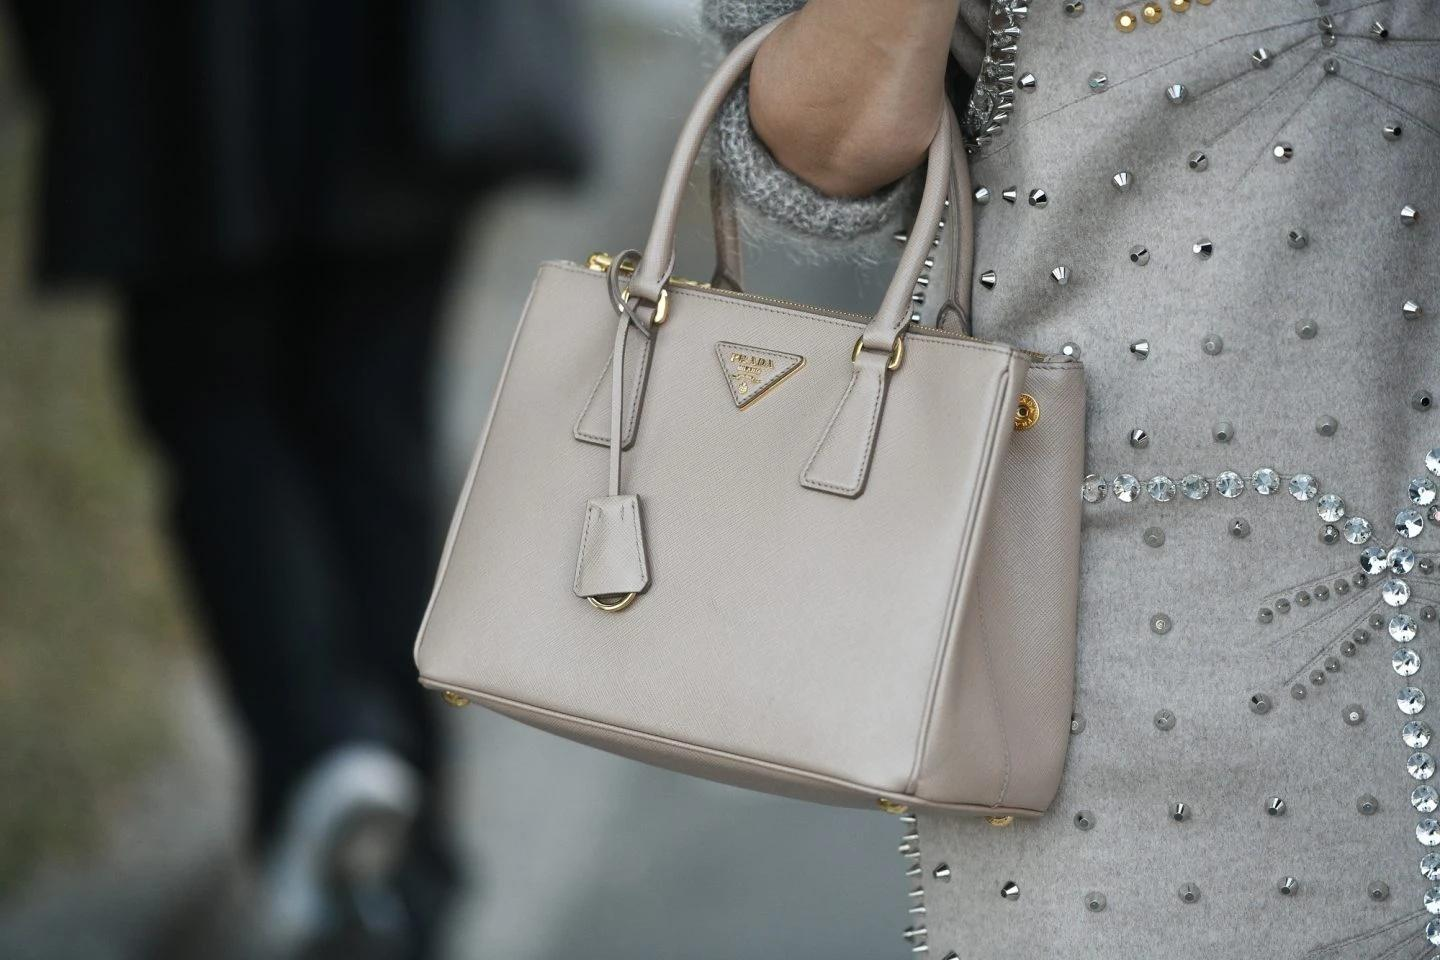PRADA: (715, 342, 801, 406)
